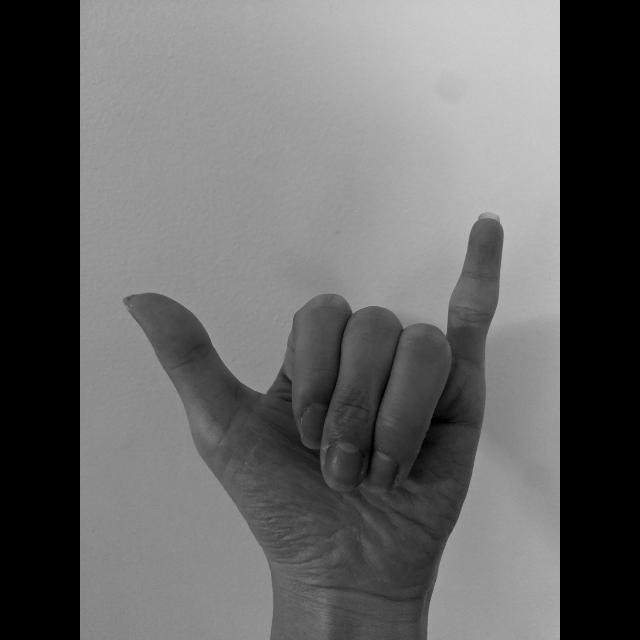Y: (116, 207, 510, 609)
